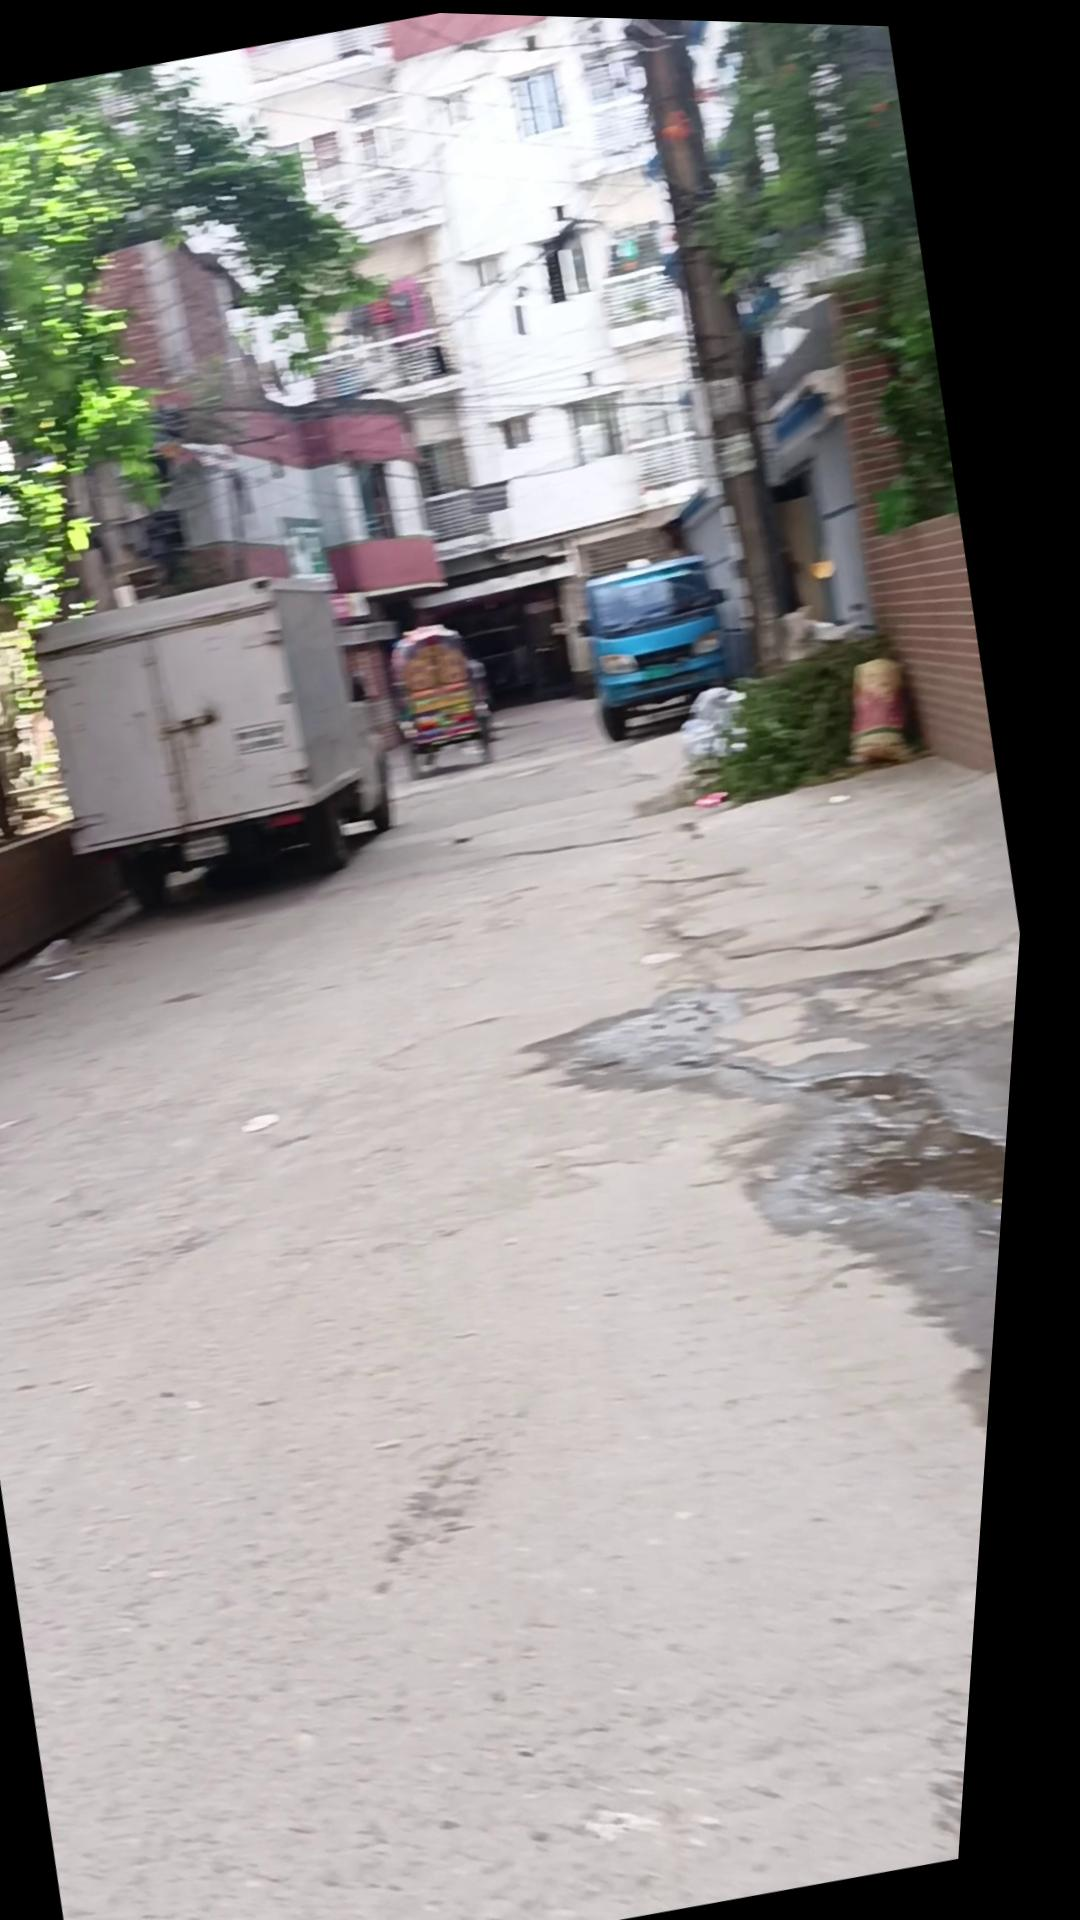Broken-road: (0, 584, 1049, 1920)
Obstacle: (579, 14, 840, 682)
Pothole: (386, 611, 520, 779)
Traffic-sign: (18, 544, 433, 931), (571, 539, 761, 744)
Tree: (0, 799, 162, 1010)
